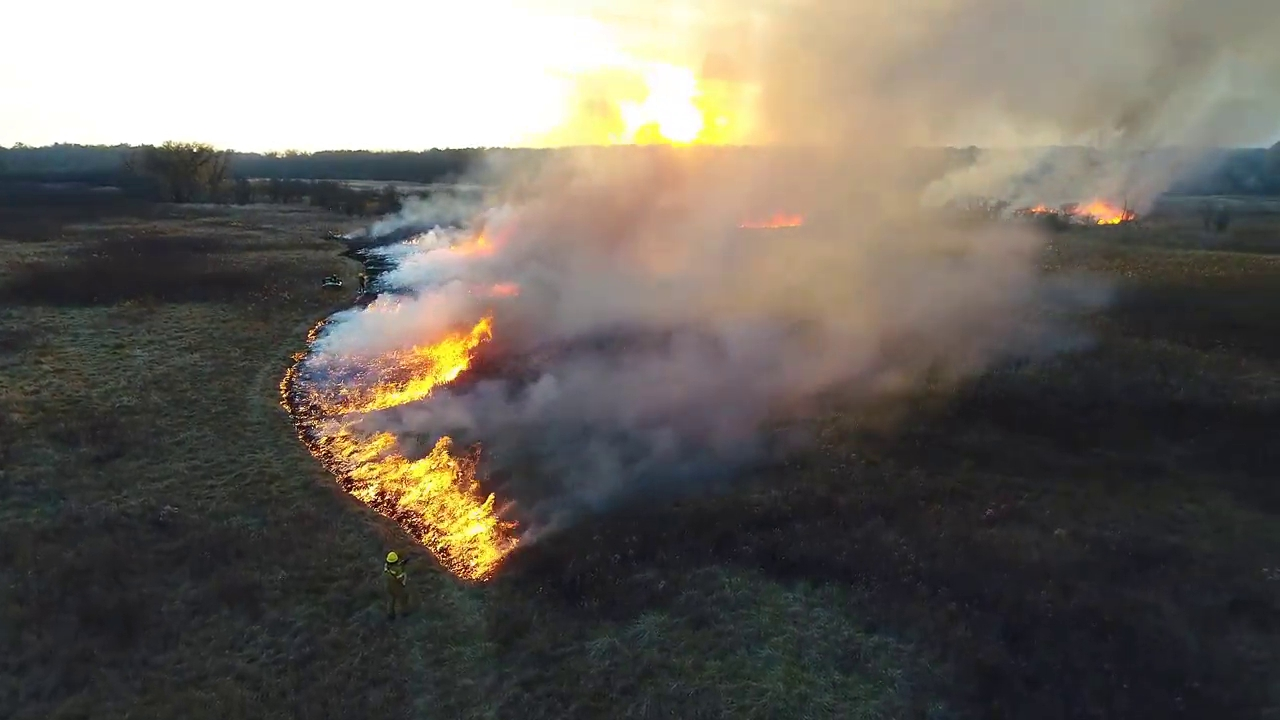forest_fire: (281, 317, 516, 580), (1019, 200, 1136, 224), (742, 213, 802, 229)
